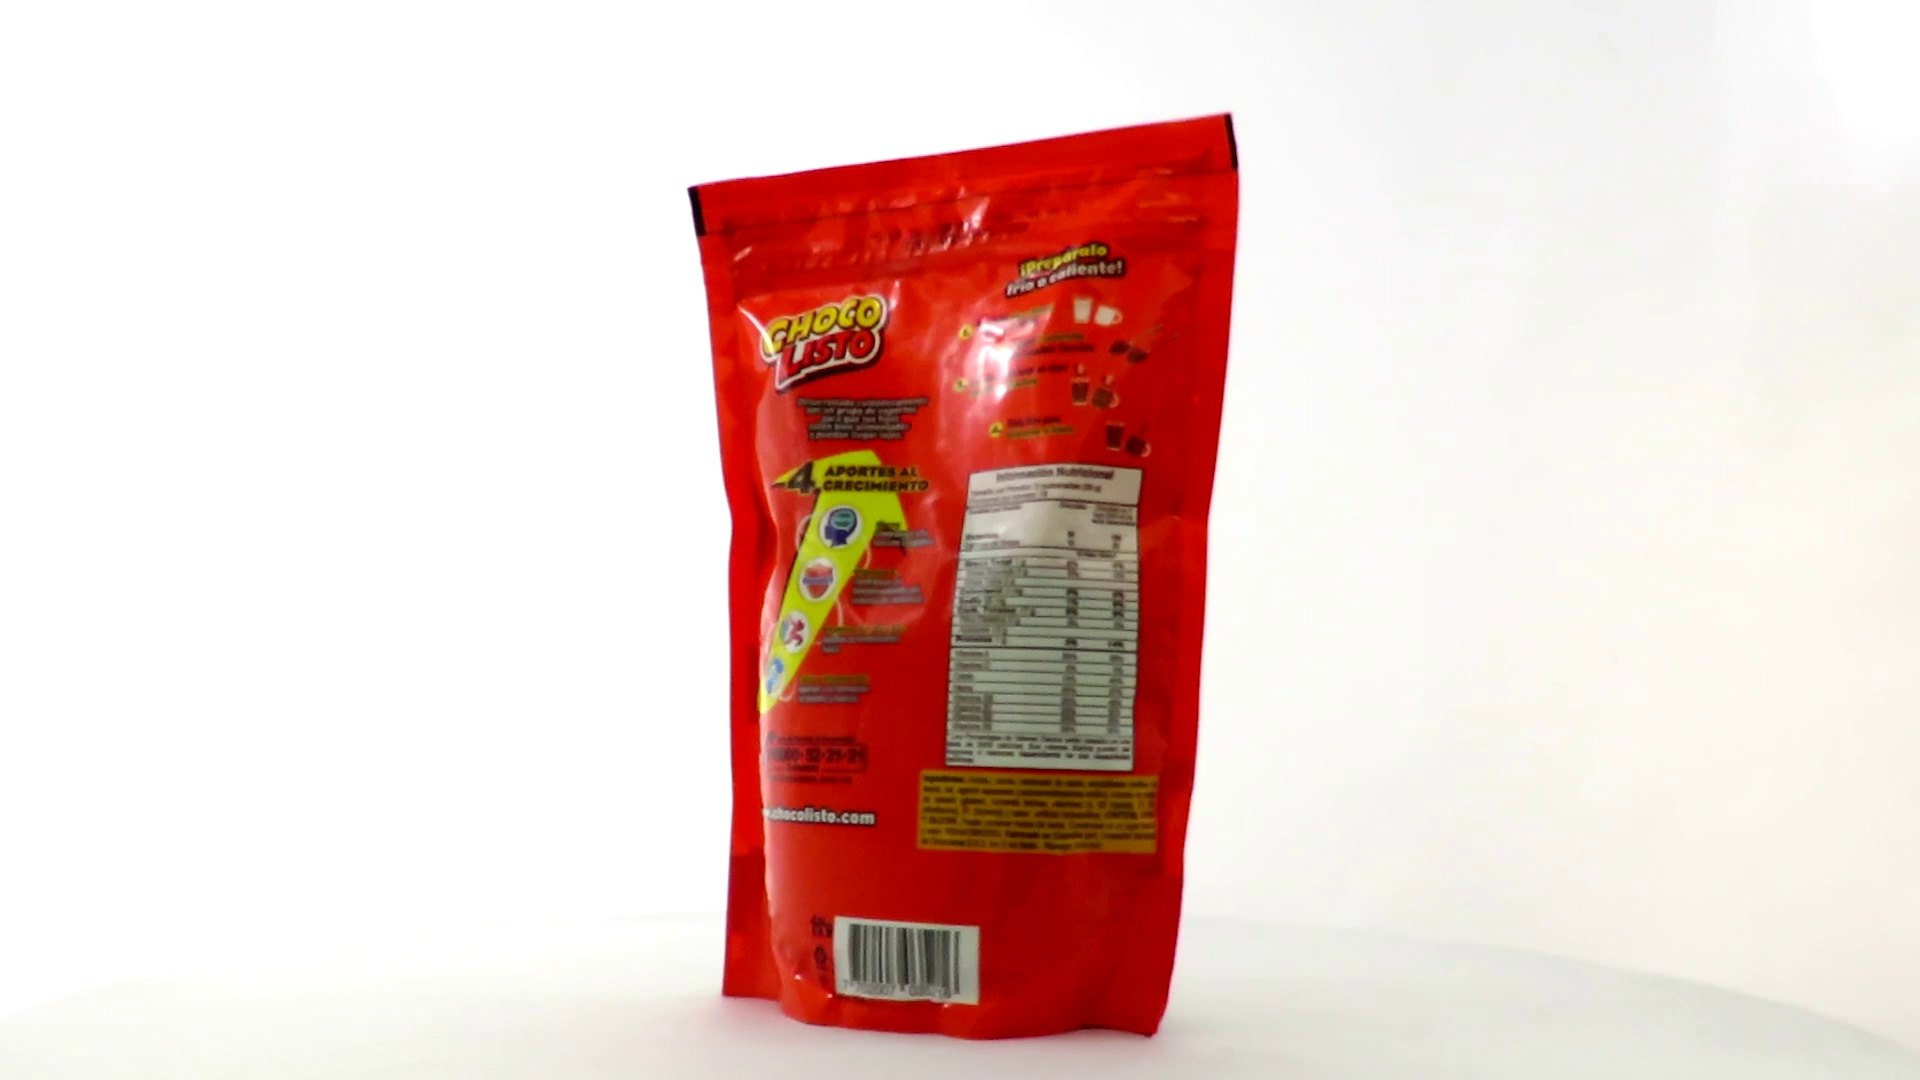COL0170103DYP36000: (682, 107, 1245, 1047)
